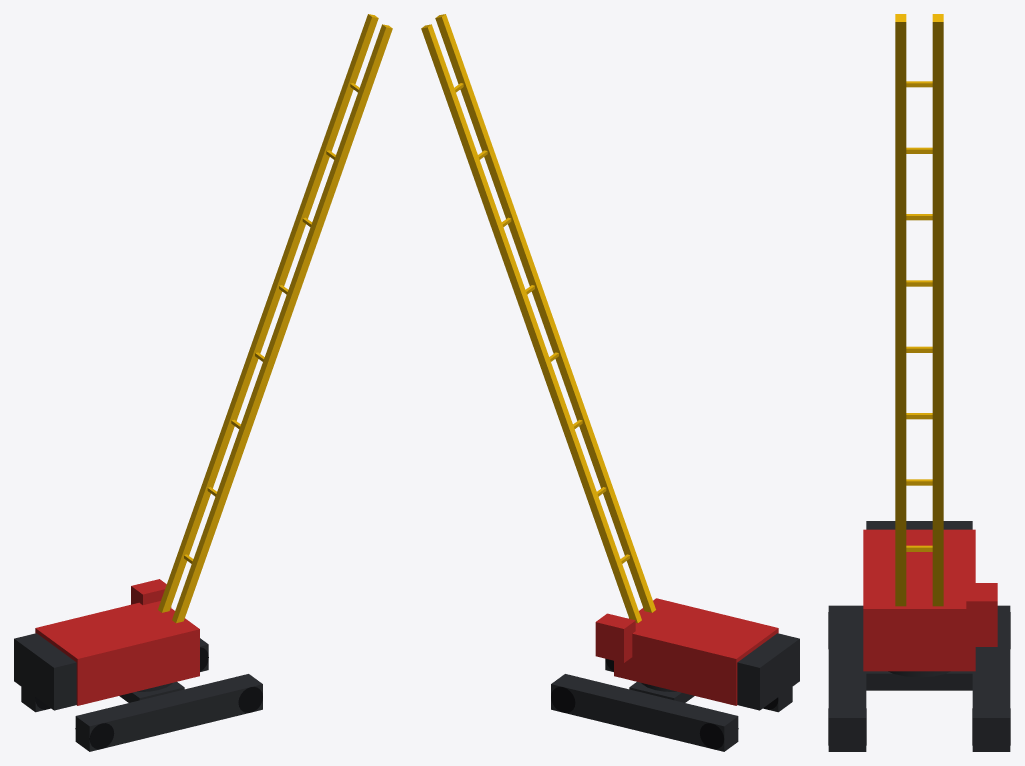
The model's file is heavy-crawler-crane.glb.
3 renders of one model, left to right at view 1: azimuth 30°, elevation 25°; view 2: azimuth 150°, elevation 25°; view 3: azimuth 270°, elevation 25°, orthographic. The views are drawn at different scales.
Bounding box in the file's own units: 17.15 × 29.43 × 5.82.
